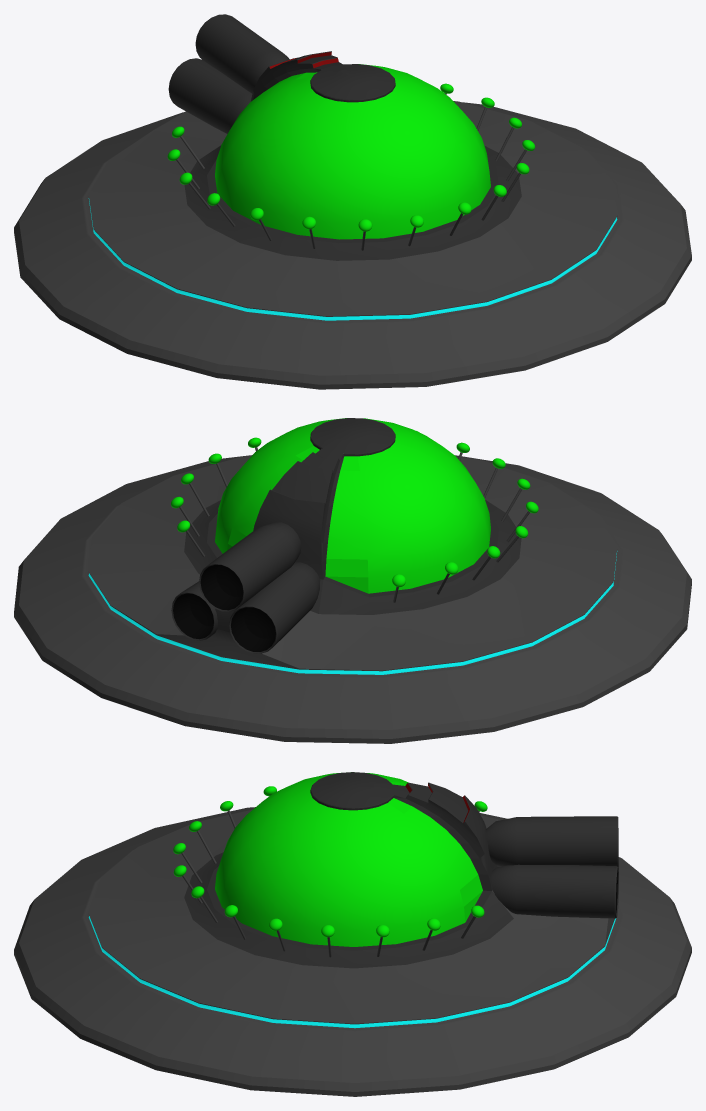
File: UFO.fbx
The picture shows the model from 3 angles, top to bottom: view 1: azimuth 30°, elevation 25°; view 2: azimuth 150°, elevation 25°; view 3: azimuth 270°, elevation 25°; orthographic projection.
Visible parts, largest first — view 1: UFO; view 2: UFO; view 3: UFO.
Boxes of the visible parts, x1,y1,x2,y2 form: UFO: [14, 14, 691, 389]; UFO: [14, 418, 691, 743]; UFO: [14, 772, 691, 1096].
Size of the model in its own units: 893 by 290 by 893.
